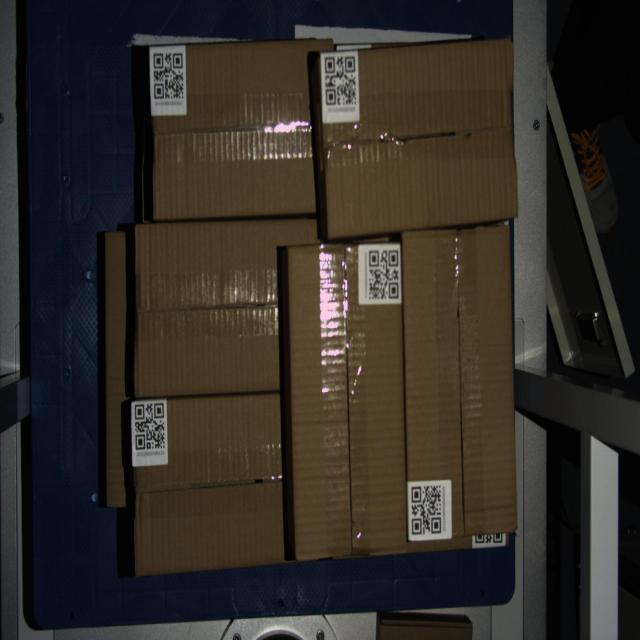box: (319, 37, 518, 239), (288, 240, 408, 560), (402, 223, 517, 542)
